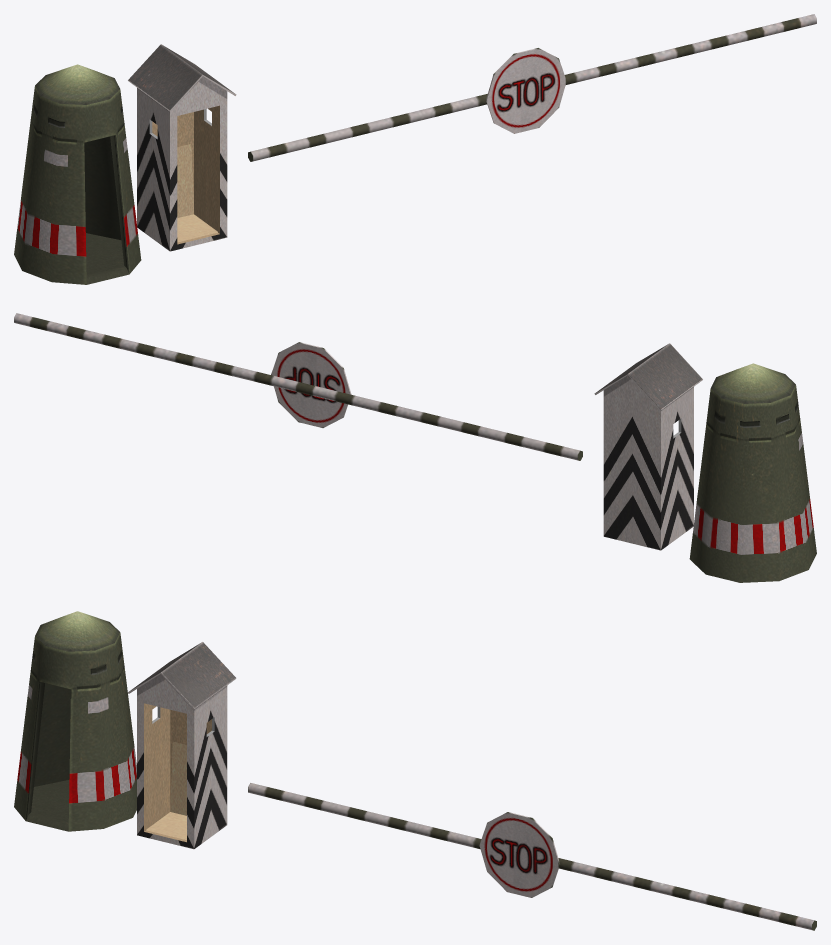
Rendered from door.fbx.
3 views of the same model, one above another, from view 1: azimuth 30°, elevation 25°; view 2: azimuth 150°, elevation 25°; view 3: azimuth 330°, elevation 25° (orthographic).
Visible parts, largest first — view 1: pCylinder1, polySurface2, polySurface1; view 2: pCylinder1, polySurface2, polySurface1; view 3: pCylinder1, polySurface2, polySurface1.
Part boxes in pixels (left/top/right/bottom): pCylinder1: left=14, top=64, right=141, bottom=284; polySurface2: left=128, top=44, right=236, bottom=251; polySurface1: left=248, top=14, right=816, bottom=161; pCylinder1: left=689, top=363, right=816, bottom=582; polySurface2: left=594, top=343, right=702, bottom=550; polySurface1: left=14, top=313, right=582, bottom=460; pCylinder1: left=14, top=611, right=136, bottom=831; polySurface2: left=128, top=642, right=236, bottom=849; polySurface1: left=248, top=783, right=816, bottom=930.
Size of the model in its own units: 28.07 by 6.56 by 3.74.
2 materials, 1 textured.
